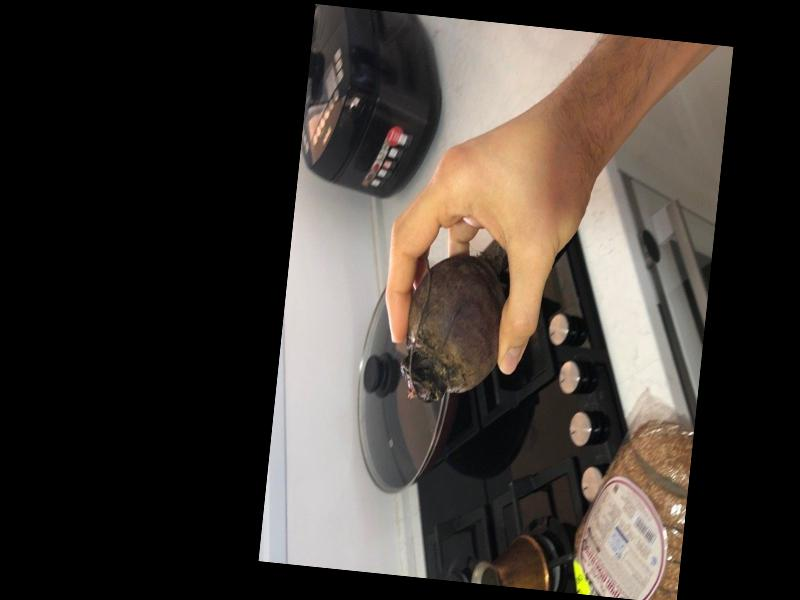Beet: (399, 240, 509, 409)
